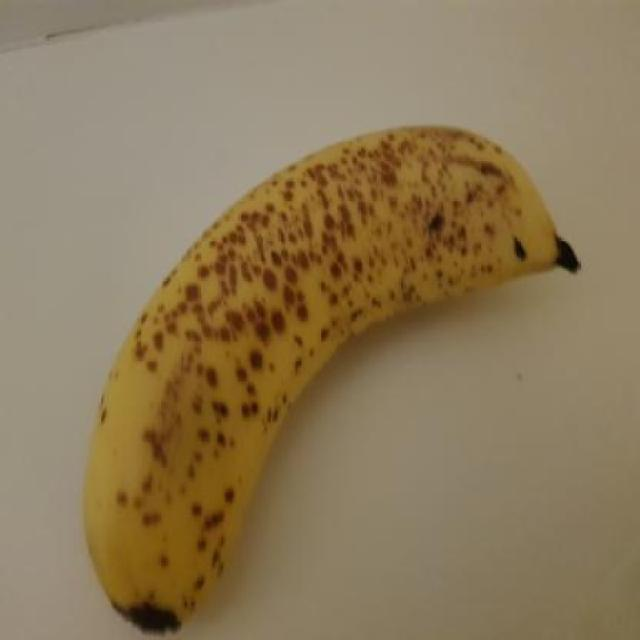Banana: (83, 123, 582, 639)
